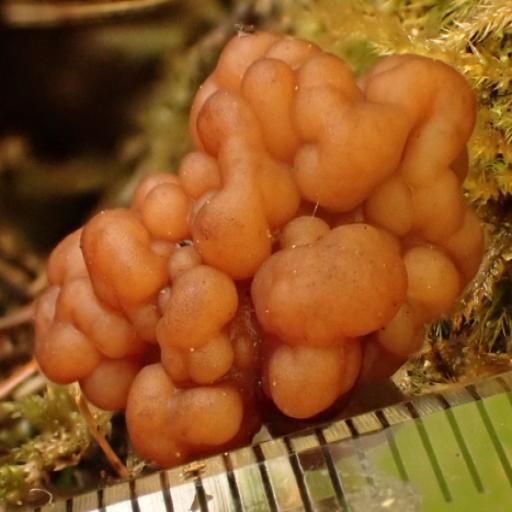False Morel: (3, 0, 512, 512)
